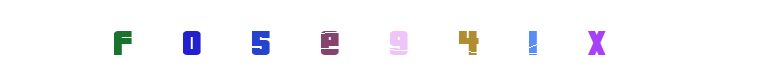1: (426, 0, 506, 80)
4: (417, 0, 497, 80)
5: (289, 0, 369, 80)
9: (357, 0, 437, 80)
E: (346, 0, 426, 80)
F: (81, 0, 161, 80)
O: (185, 0, 265, 80)
X: (556, 0, 636, 80)
